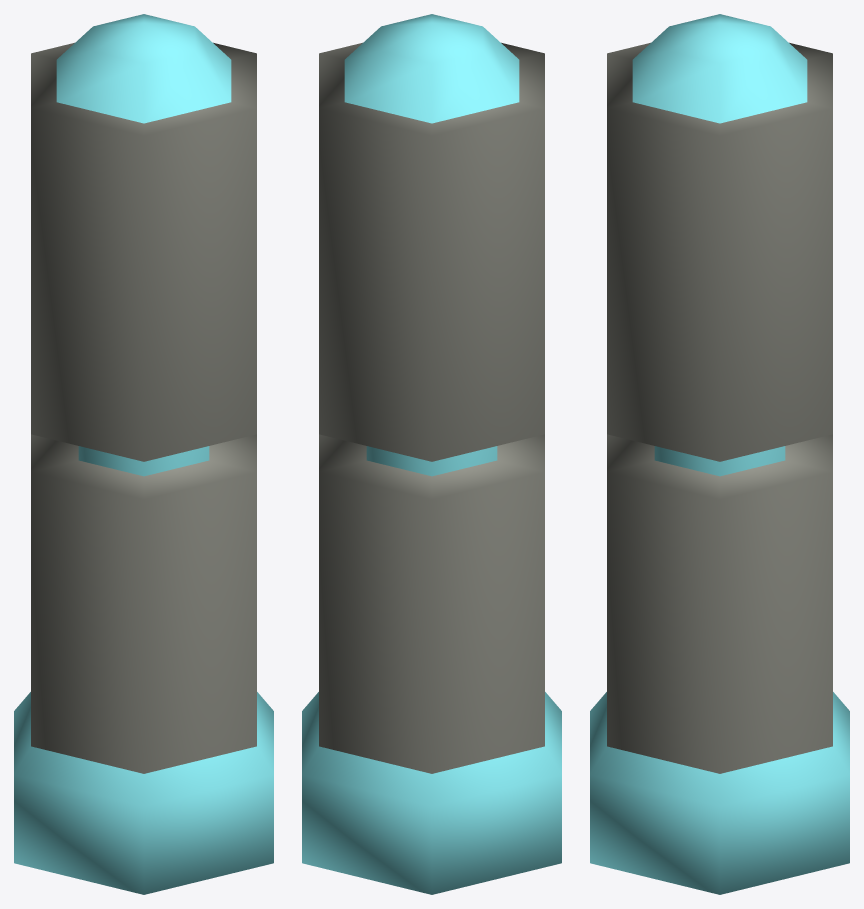
Rendered from ss_missile_mesh_2.fbx.
3 views of the same model, side by side, from view 1: azimuth 30°, elevation 25°; view 2: azimuth 150°, elevation 25°; view 3: azimuth 270°, elevation 25° (orthographic).
Visible parts, largest first — view 1: Missile2; view 2: Missile2; view 3: Missile2.
Boxes of the visible parts, x1=… form: Missile2: x1=14, y1=14, x2=273, y2=894; Missile2: x1=302, y1=14, x2=561, y2=894; Missile2: x1=590, y1=14, x2=849, y2=894.
Size of the model in its own units: 0.2301 by 0.684 by 0.1993.
